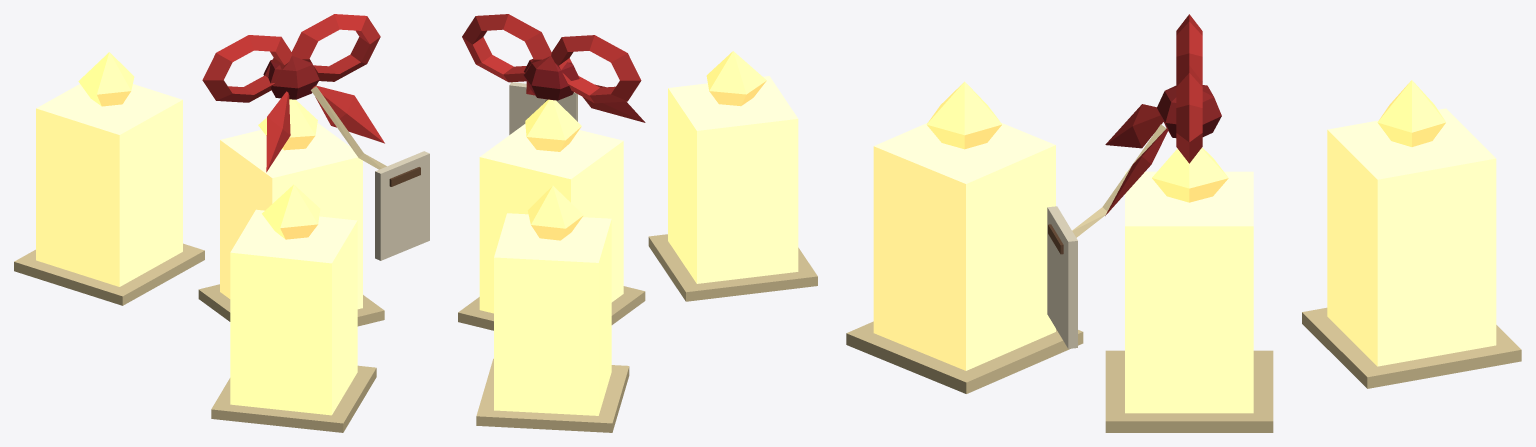
File: quest_paper_lantern.glb
The picture shows the model from 3 angles, left to right: view 1: azimuth 30°, elevation 25°; view 2: azimuth 150°, elevation 25°; view 3: azimuth 270°, elevation 25°; orthographic projection. The views are drawn at different scales.
Parts seen in each view (by area): view 1: quest_paper_lantern; view 2: quest_paper_lantern; view 3: quest_paper_lantern.
Boxes of the visible parts, x1,y1,x2,y2 form: quest_paper_lantern: (14, 14, 429, 432); quest_paper_lantern: (458, 14, 817, 432); quest_paper_lantern: (846, 14, 1521, 432).
Size of the model in its own units: 0.22 by 0.229 by 0.4.
